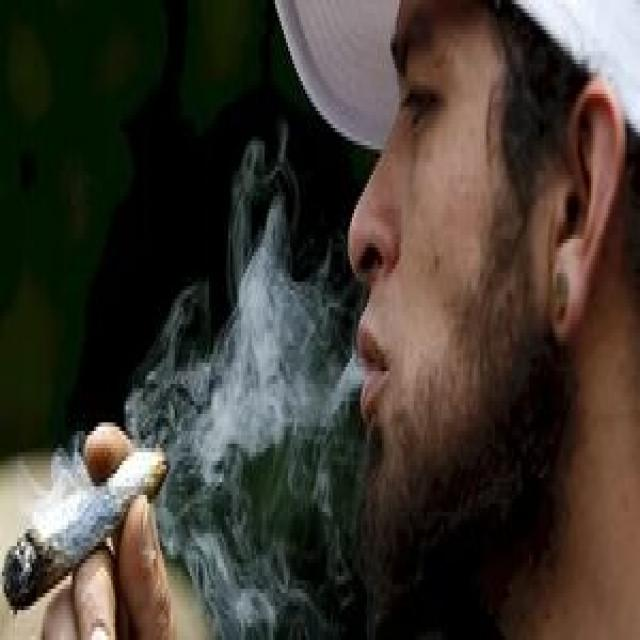smoke: (4, 436, 173, 614)
